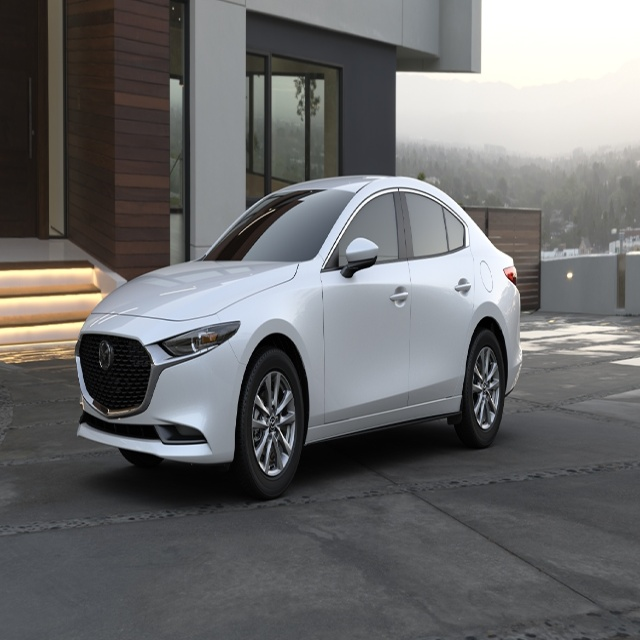Car: (74, 174, 522, 500)
